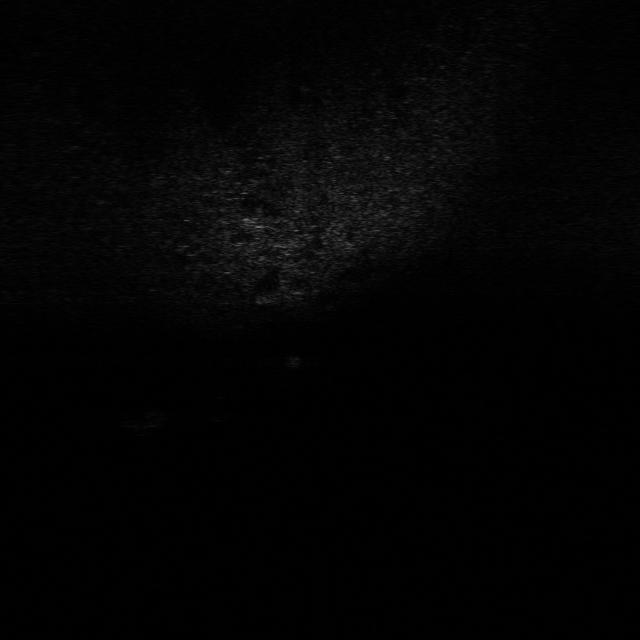ball: (196, 393, 237, 426)
circle cage: (120, 404, 170, 440)
cylinder: (277, 347, 304, 378)
